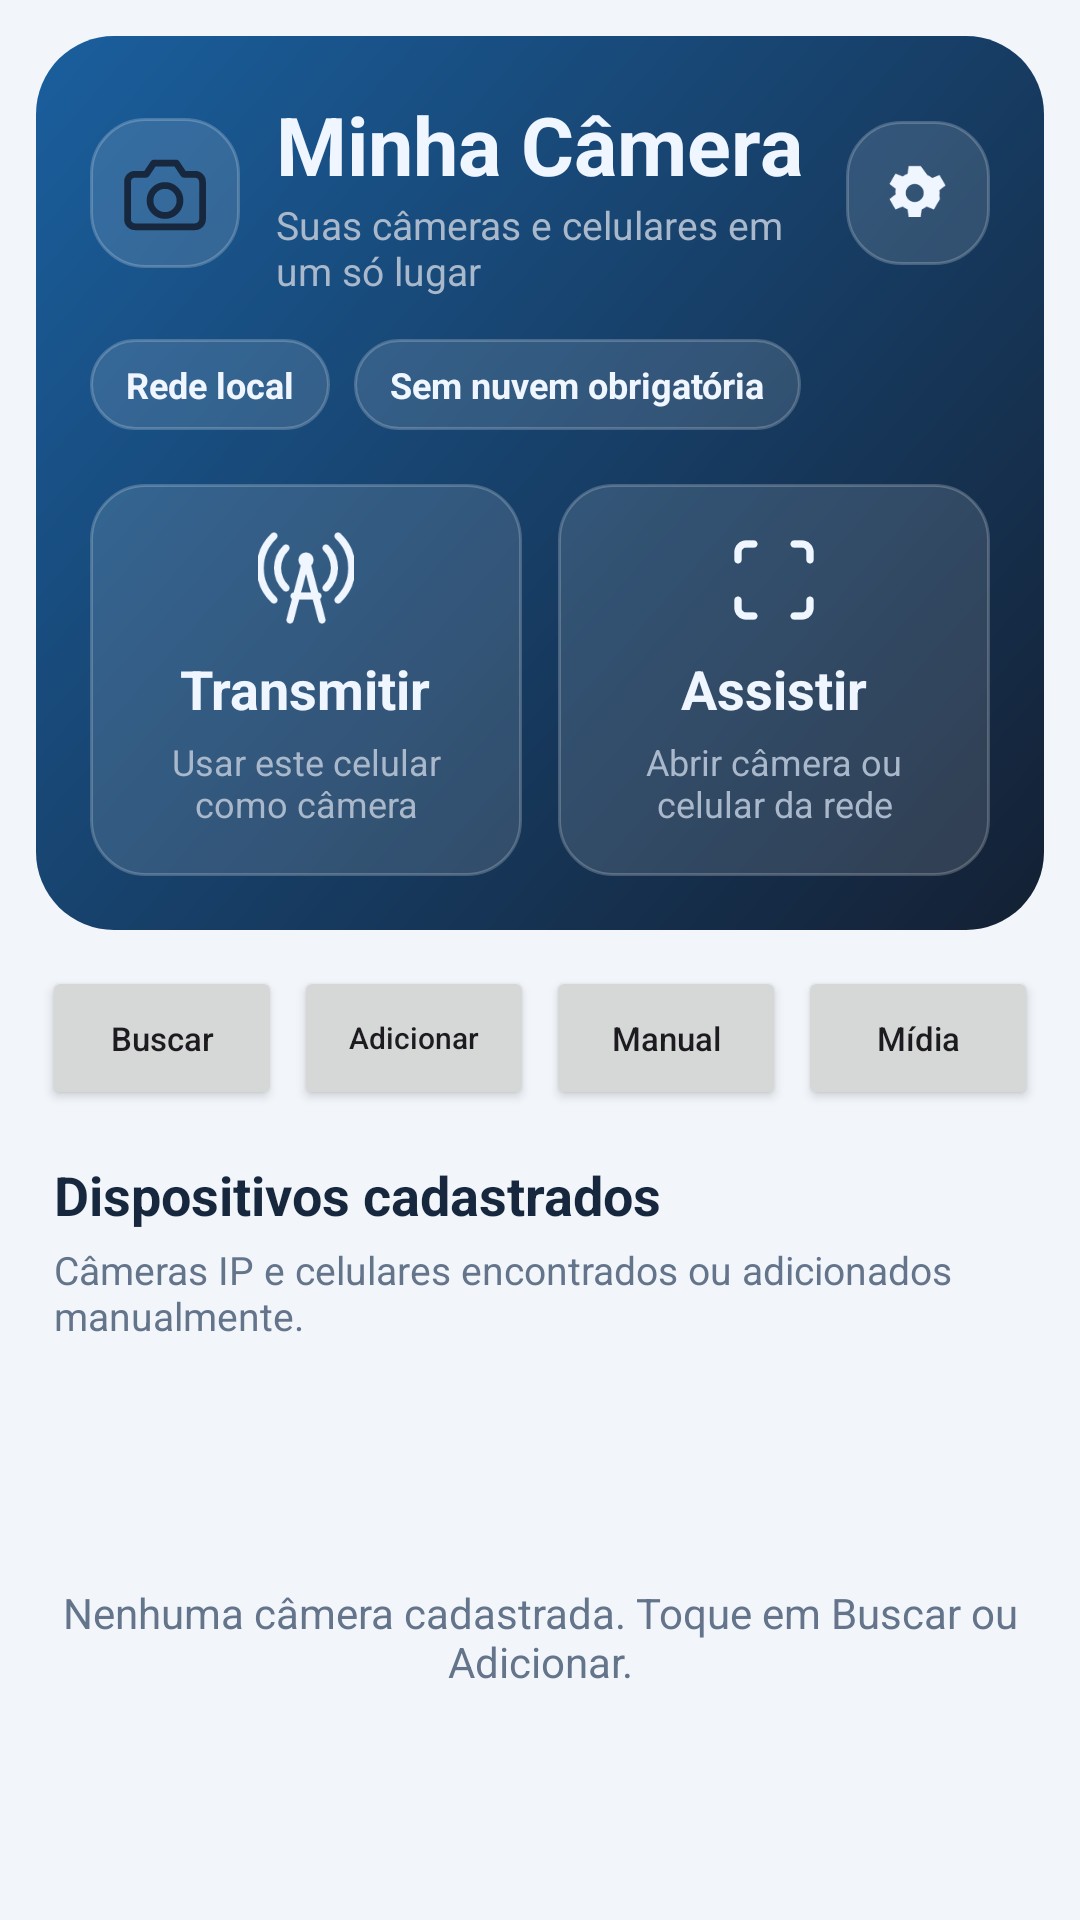

Locate icon controls on the screen. Image size 1080px x 1920px, boxes as (x1, y1, x2, y2).
Configurações: (846, 121, 990, 265)
ui camera: (90, 118, 240, 268)
ui scan: (734, 540, 814, 620)
ui tower: (258, 532, 354, 624)
